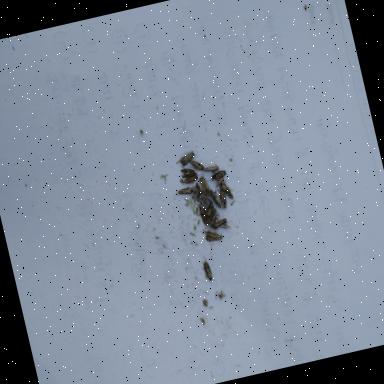pbw: (201, 226, 224, 244), (198, 174, 211, 198), (202, 257, 214, 282), (220, 180, 234, 201), (178, 162, 196, 178), (179, 150, 197, 166), (210, 188, 222, 210), (190, 158, 206, 172), (174, 186, 194, 197), (202, 163, 220, 175), (210, 169, 228, 181), (199, 204, 209, 225), (218, 188, 228, 209), (181, 174, 199, 185), (208, 210, 220, 226), (205, 201, 216, 218), (213, 218, 228, 229), (193, 182, 202, 198), (214, 176, 225, 188)
